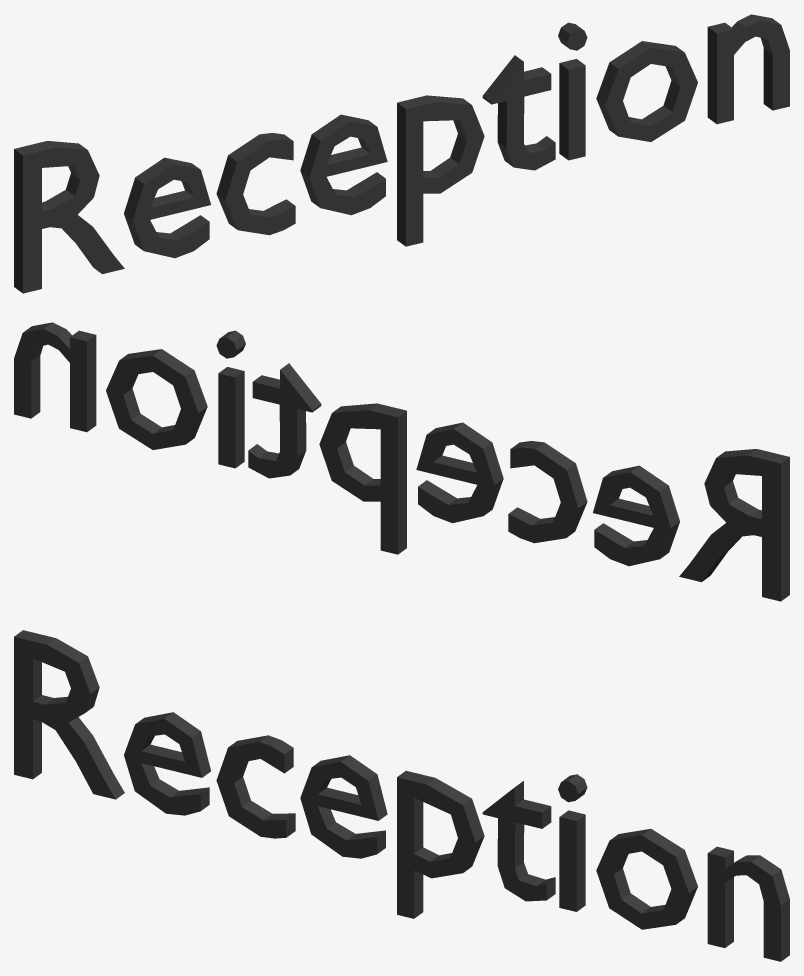
File: H_Text_Reception.fbx
3 renders of one model, top to bottom at view 1: azimuth 30°, elevation 25°; view 2: azimuth 150°, elevation 25°; view 3: azimuth 330°, elevation 25°, orthographic.
Visible parts, largest first — view 1: H_Text_Reception; view 2: H_Text_Reception; view 3: H_Text_Reception.
Boxes of the visible parts, box(x1,y1,x2,y2) form: H_Text_Reception: box(14, 14, 789, 293); H_Text_Reception: box(14, 322, 789, 601); H_Text_Reception: box(14, 630, 789, 961).
Size of the model in its own units: 1394 by 28.64 by 321.
